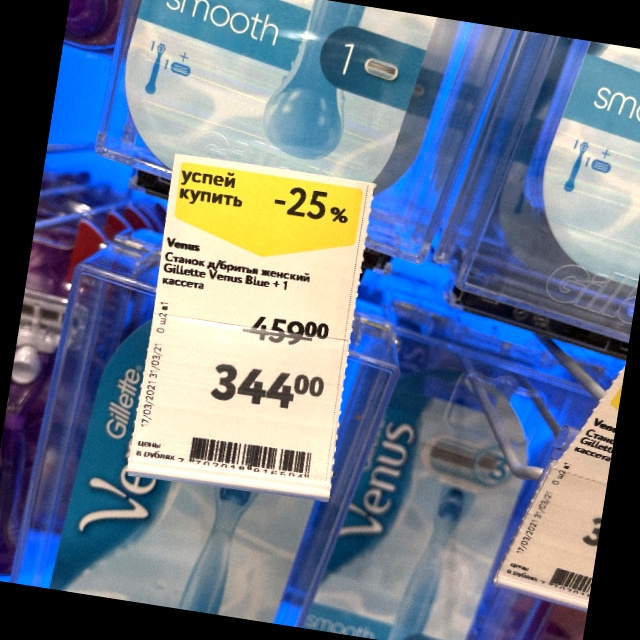barcode: (176, 430, 315, 483)
name: (162, 249, 313, 299)
price: (209, 356, 326, 414)
price_tag: (126, 150, 379, 506)
